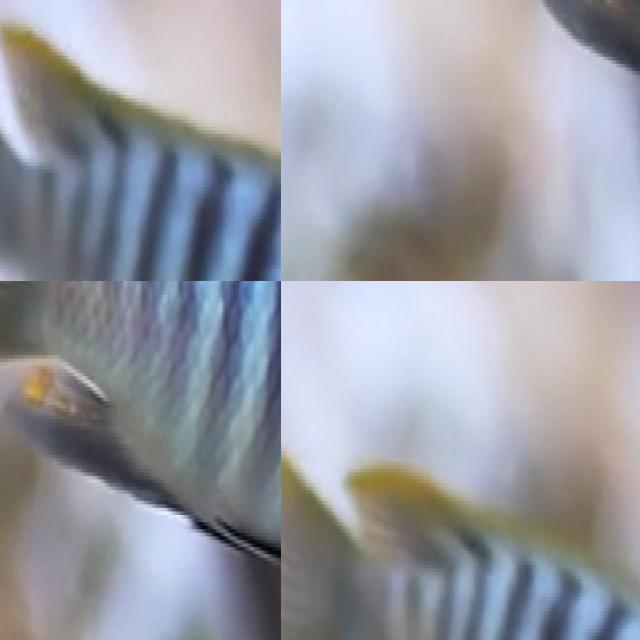fish: (0, 0, 281, 281), (281, 430, 640, 640), (406, 0, 640, 263)
